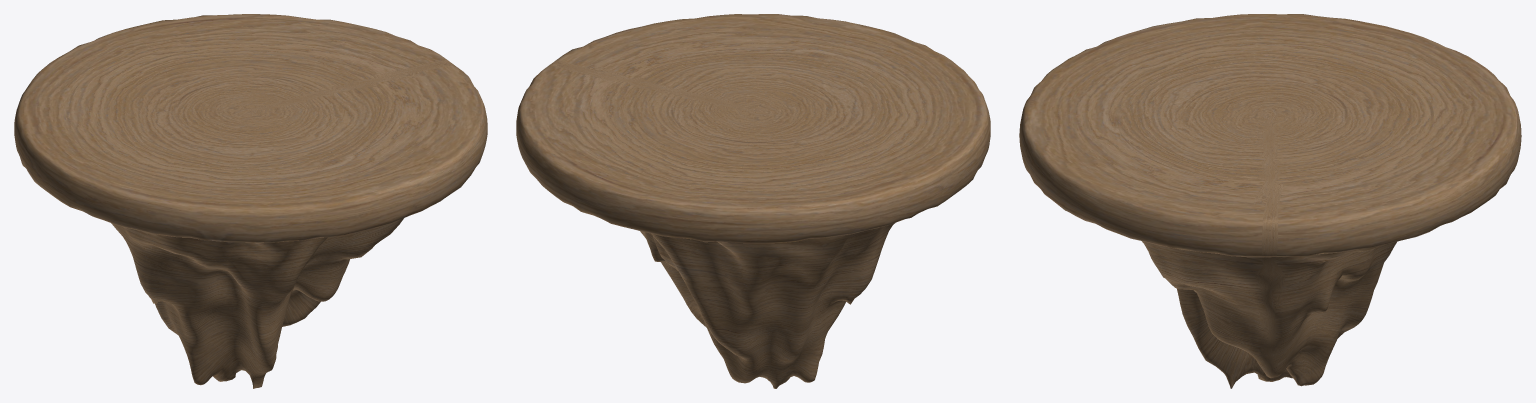
The model's file is island.glb.
3 renders of one model, left to right at view 1: azimuth 30°, elevation 25°; view 2: azimuth 150°, elevation 25°; view 3: azimuth 270°, elevation 25°, orthographic. The views are drawn at different scales.
Visible parts, largest first — view 1: island; view 2: island; view 3: island.
Part boxes in pixels (x1,y1,x2,y2): island: [14, 14, 487, 388]; island: [516, 14, 990, 388]; island: [1019, 14, 1521, 388].
Bounding box in the file's own units: 102 × 63.12 × 102.
Materials: 1 (1 with a texture image).
